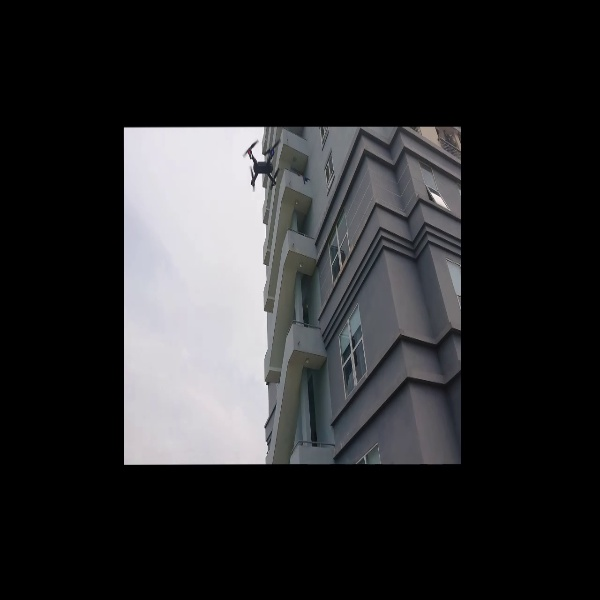drone: (240, 135, 286, 190)
